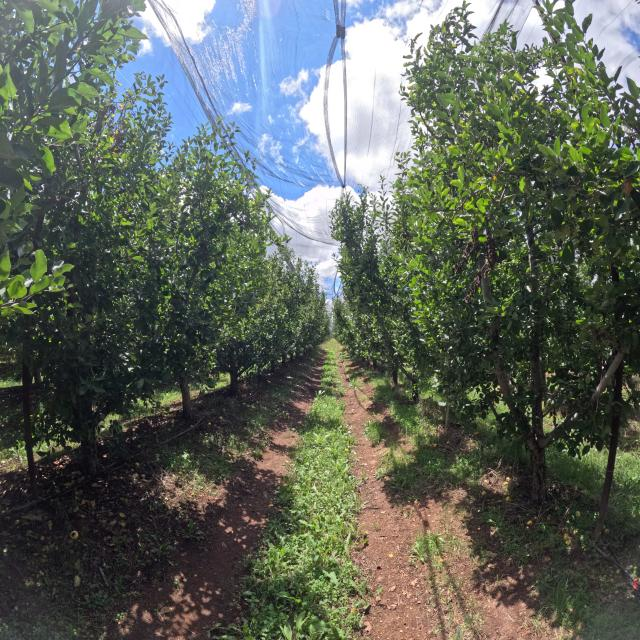-FireBlight-: (456, 221, 497, 304)
